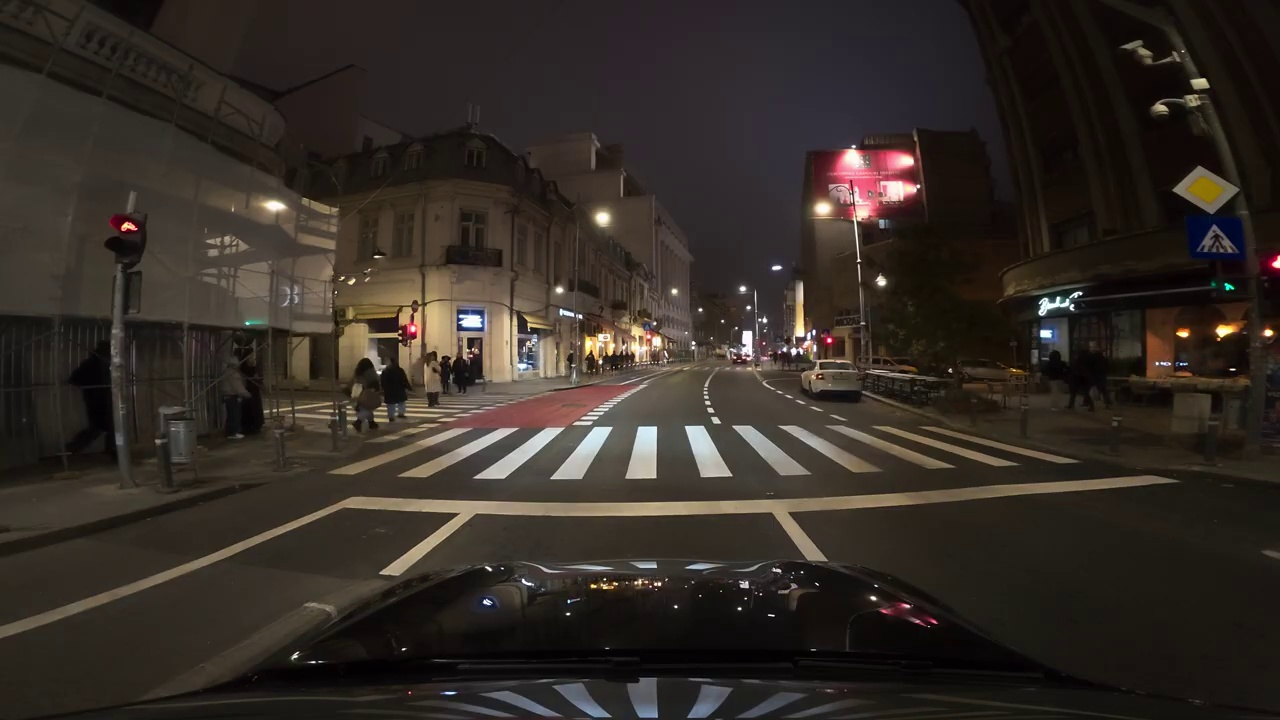acesa: (591, 207, 615, 231), (259, 198, 286, 219), (812, 197, 835, 220), (840, 149, 864, 171), (870, 272, 890, 293)
